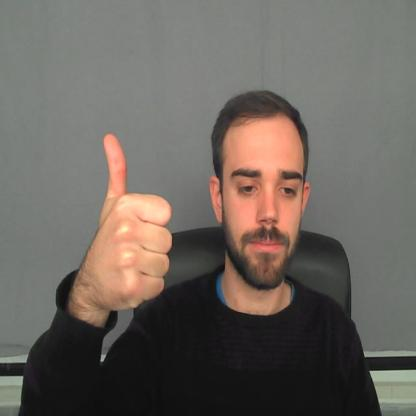thumbs-up: (80, 127, 171, 305)
